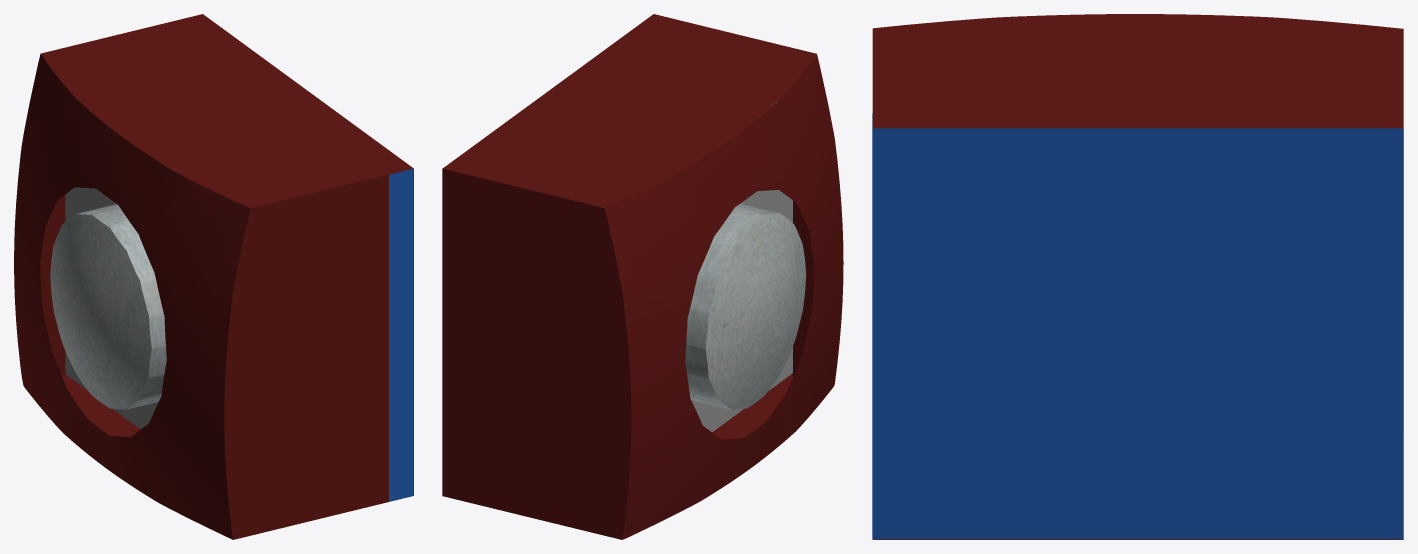
The model's file is longrange.obj.
The picture shows the model from 3 angles, left to right: view 1: azimuth 30°, elevation 25°; view 2: azimuth 150°, elevation 25°; view 3: azimuth 270°, elevation 25°; orthographic projection. The views are drawn at different scales.
Parts seen in each view (by area): view 1: Sphere001, Cylinder001, Box002, Box001; view 2: Sphere001, Cylinder001, Box001; view 3: Box002, Sphere001.
Boxes of the visible parts, left/top/right/bottom form: Sphere001: left=14, top=14, right=413, bottom=539; Cylinder001: left=50, top=204, right=166, bottom=409; Box002: left=389, top=169, right=413, bottom=501; Box001: left=65, top=169, right=171, bottom=429; Sphere001: left=442, top=14, right=843, bottom=539; Cylinder001: left=685, top=204, right=806, bottom=409; Box001: left=624, top=102, right=792, bottom=431; Box002: left=872, top=113, right=1402, bottom=539; Sphere001: left=872, top=14, right=1403, bottom=539.
Bounding box in the file's own units: 56.73 × 78.91 × 92.31.
Materials: 4 (1 with a texture image).
